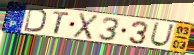3: (128, 20, 150, 45), (99, 17, 121, 42)
D: (23, 7, 48, 34)
T: (51, 10, 71, 35)
U: (149, 22, 175, 48)
X: (72, 12, 100, 41)
